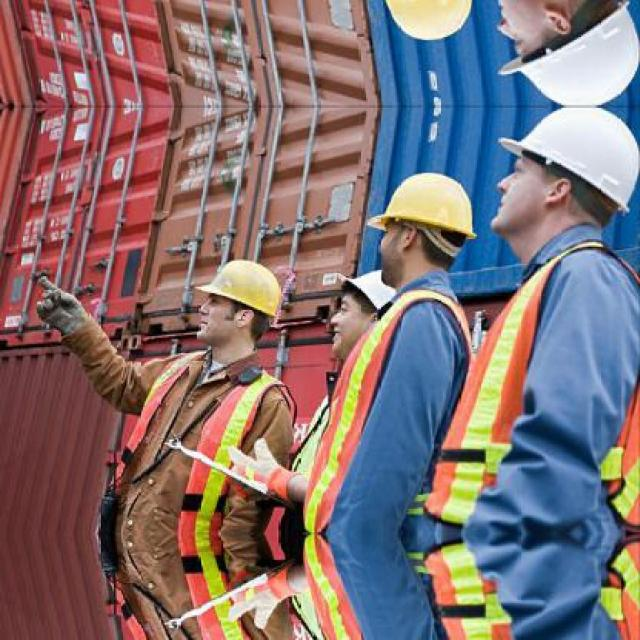Reflective-Jacket: (290, 276, 508, 635), (471, 233, 638, 640), (120, 344, 306, 608)
Safety-Helmet: (495, 105, 640, 216), (363, 166, 480, 250), (188, 253, 294, 336)
